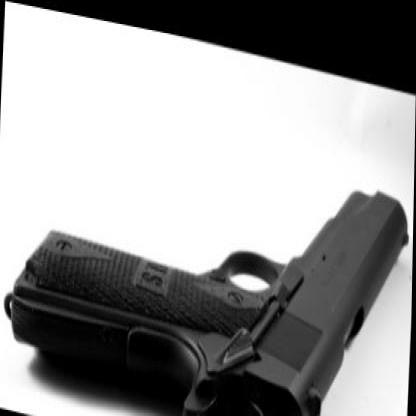pistol: (0, 90, 411, 413)
